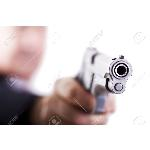Pistol: (74, 42, 134, 120)
